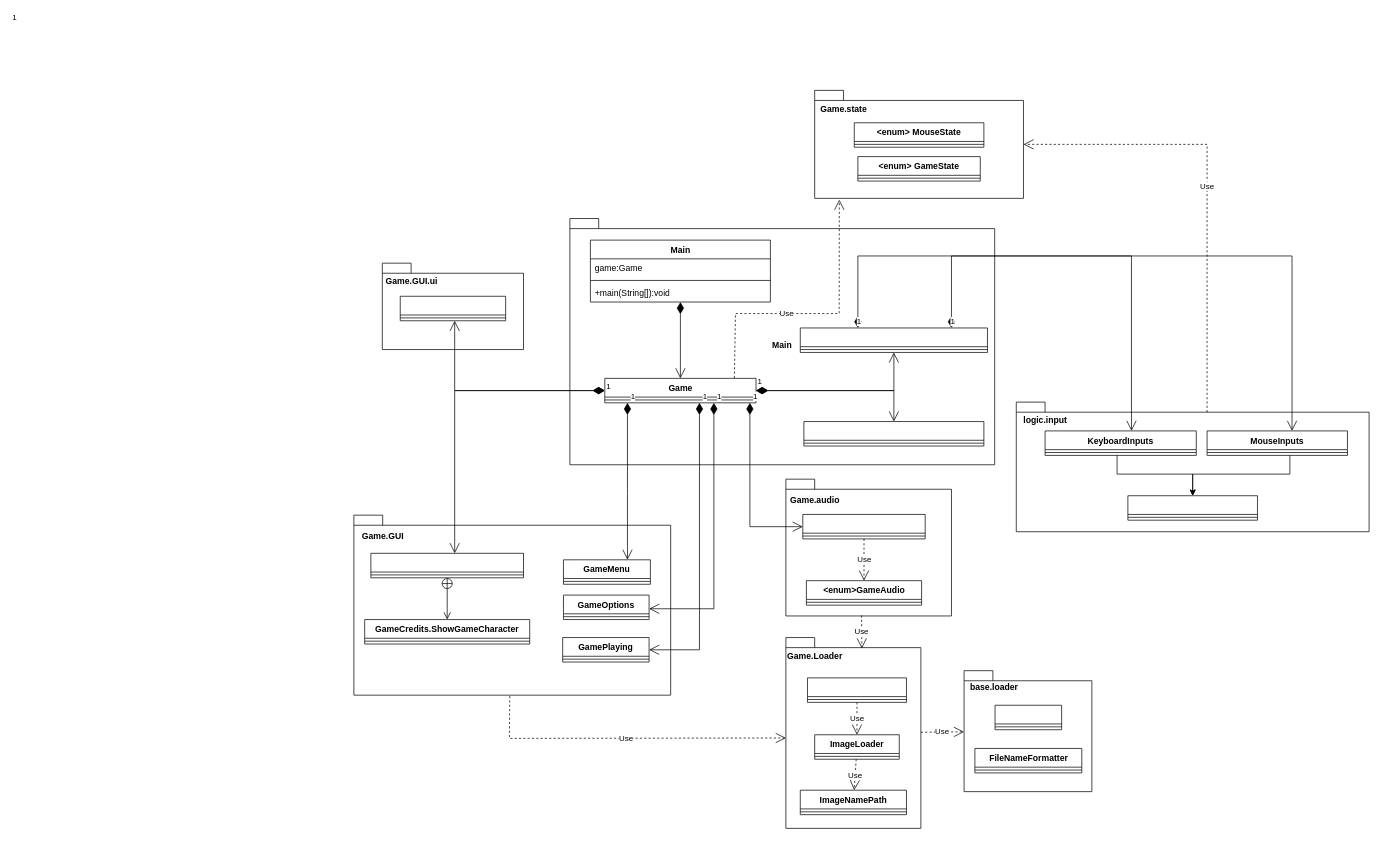
Image size: 1382x841. Some labels were removed from this diagram. The shapes that lost their labels are listed below. From the top down, each one's centre as x and y in pixels, then its label:
At (x=453, y=308): "GameAudioOptions".
At (x=893, y=339): "GamePanel".
At (x=893, y=433): "GameWindow".
At (x=863, y=526): "GameAudioPlayer".
At (x=1192, y=507): "<enum> Direction".
At (x=447, y=565): "GameCredits".
At (x=856, y=689): "GameElementLoader".
At (x=1028, y=717): "BaseLoader".
